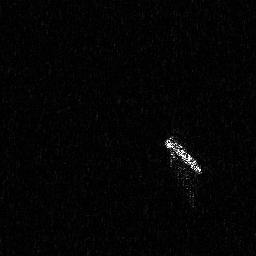ship: (161, 132, 205, 180)
